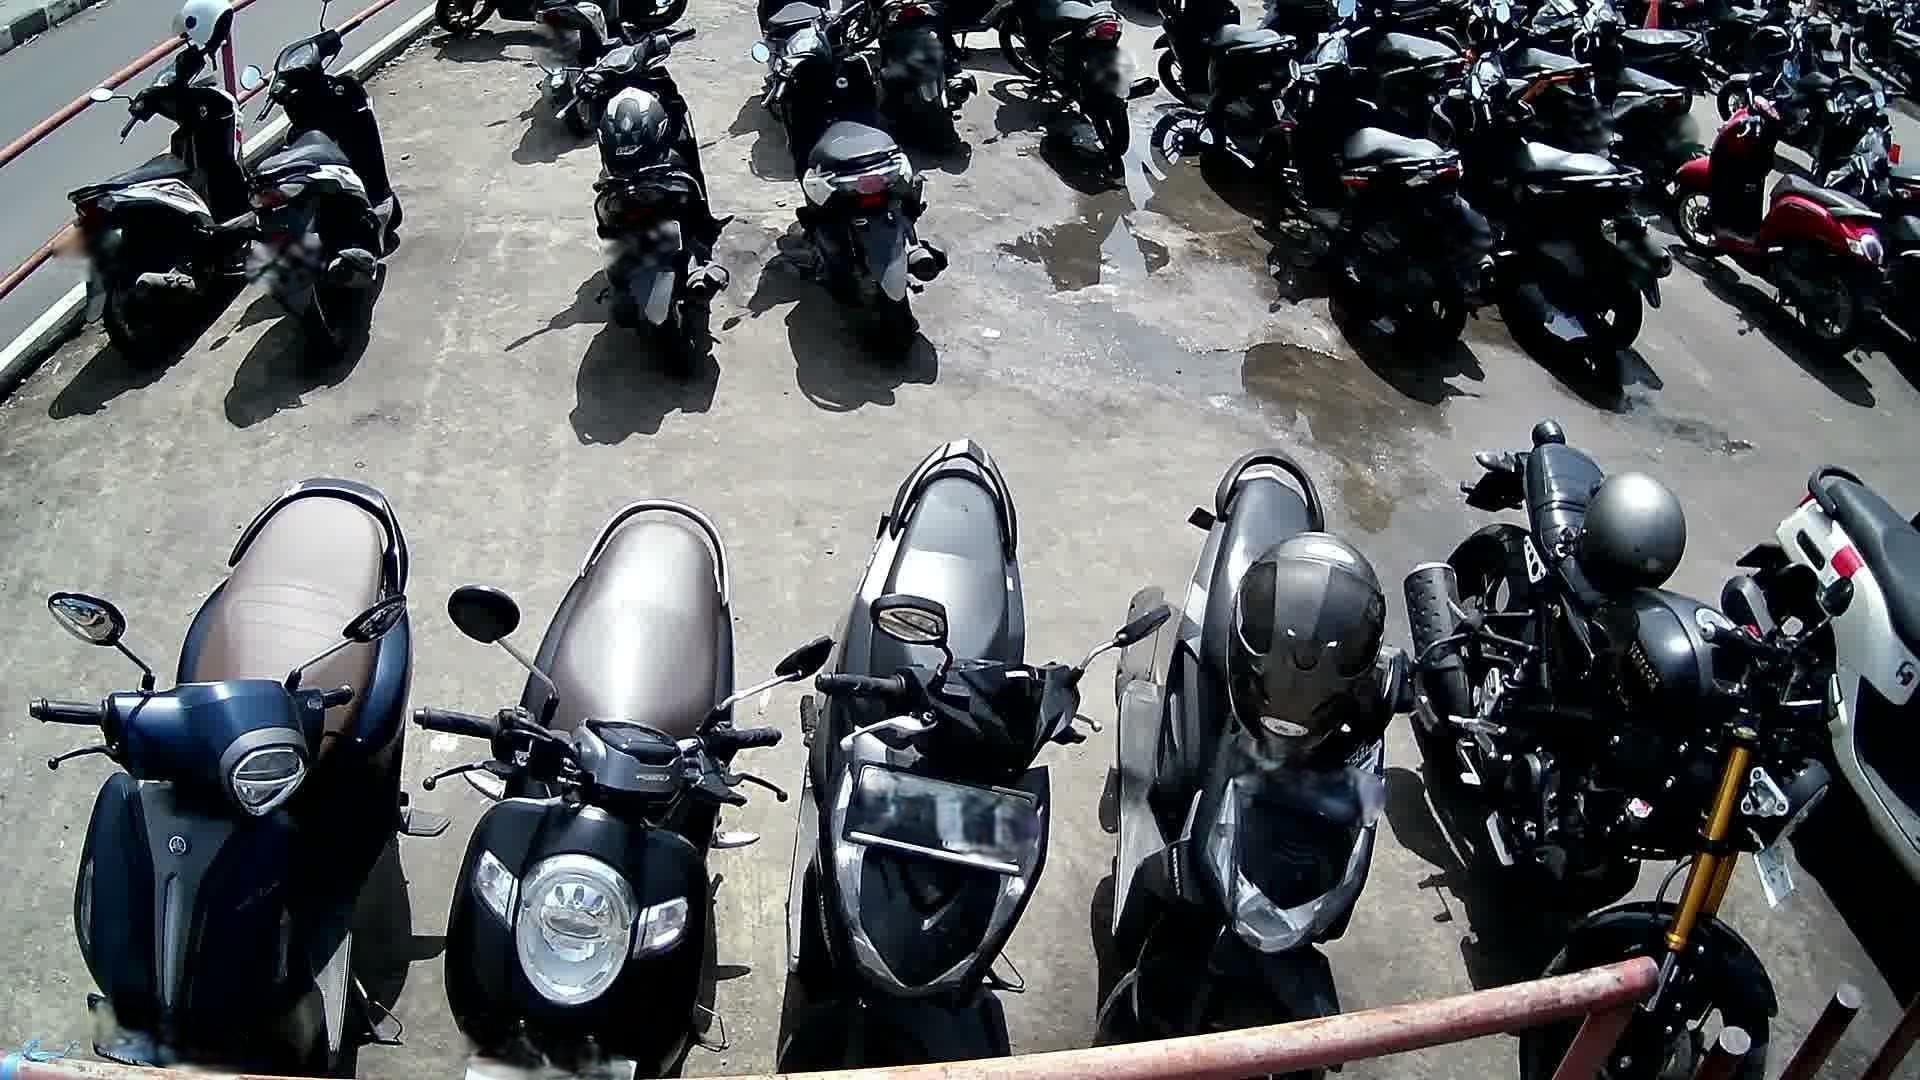motorcycle: (1406, 419, 1853, 1080), (775, 438, 1170, 1078), (30, 474, 448, 1073), (415, 503, 831, 1080), (1095, 447, 1482, 1047), (1422, 2, 1675, 360), (1723, 467, 1920, 891), (1264, 0, 1495, 353), (752, 0, 950, 368), (555, 2, 733, 380), (1675, 62, 1893, 362), (68, 32, 256, 367), (240, 0, 407, 361)
